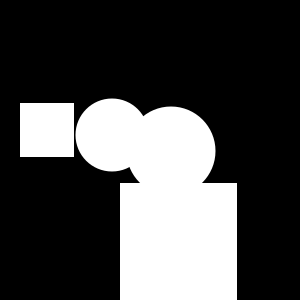circle: (120, 183, 237, 300), (20, 103, 74, 157)
rectangle: (126, 106, 215, 195), (76, 99, 148, 172)
